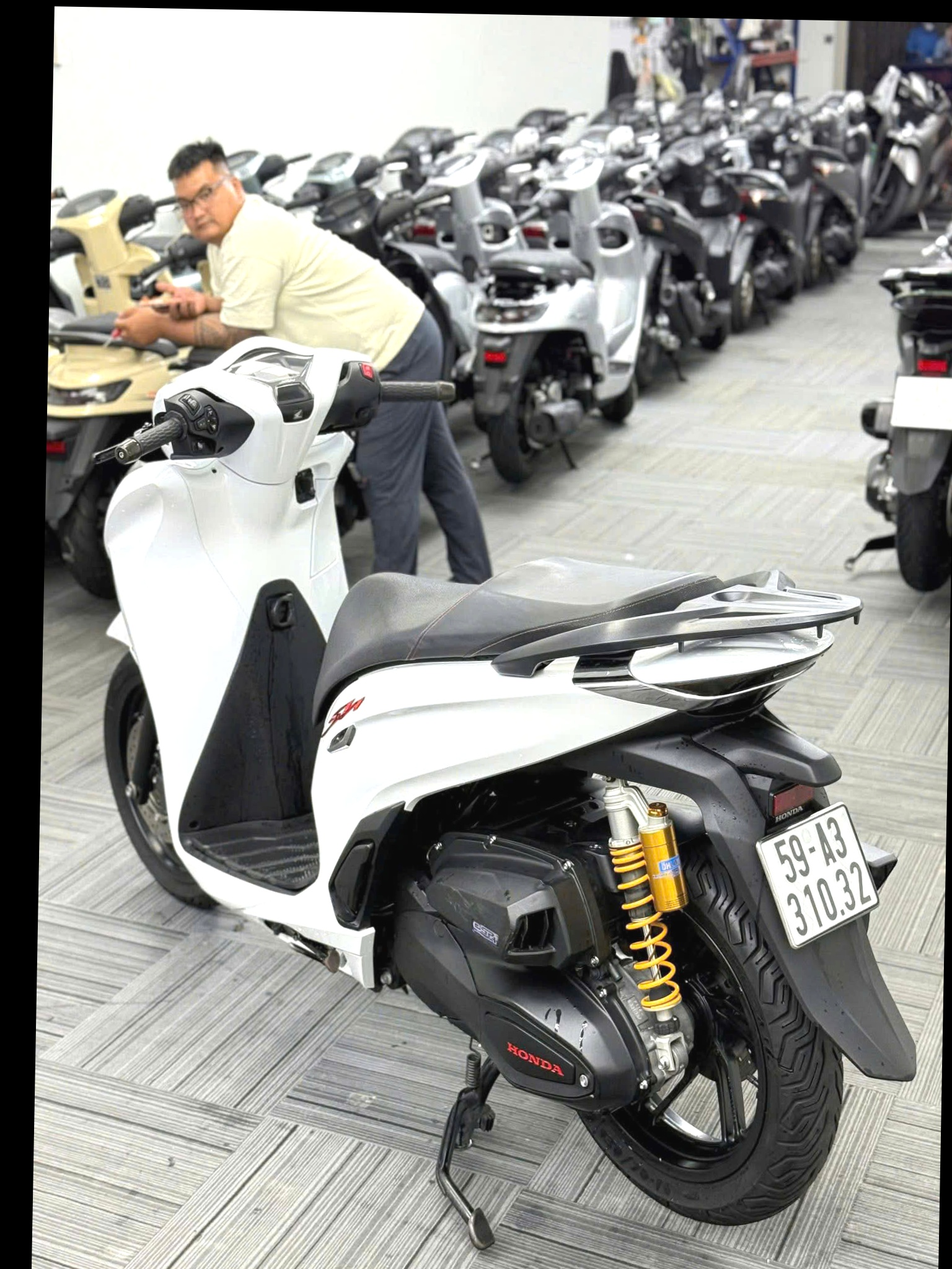Bien-so: (758, 798, 890, 954)
